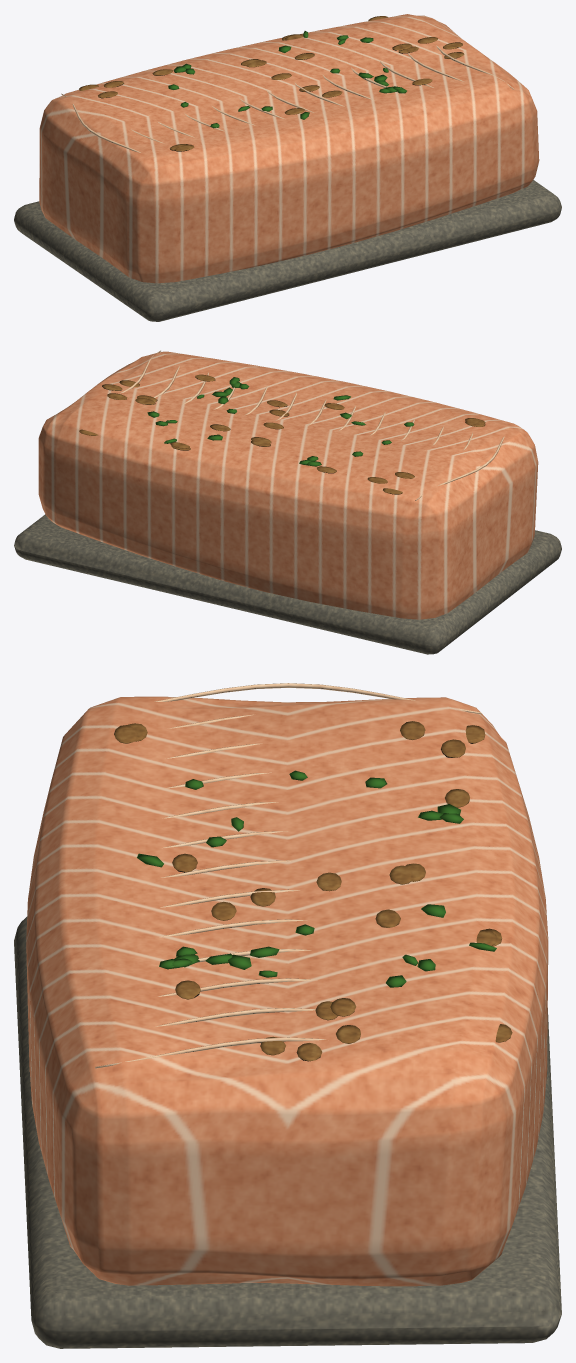
The model's file is salmon.glb.
3 renders of one model, top to bottom at view 1: azimuth 30°, elevation 25°; view 2: azimuth 150°, elevation 25°; view 3: azimuth 270°, elevation 25°, orthographic. The views are drawn at different scales.
Visible parts, largest first — view 1: salmon; view 2: salmon; view 3: salmon.
Part boxes in pixels (x1=…): salmon: x1=14, y1=14, x2=561, y2=321; salmon: x1=14, y1=350, x2=561, y2=654; salmon: x1=14, y1=683, x2=561, y2=1348.
Size of the model in its own units: 0.0798 by 0.0264 by 0.0455.
Materials: 1 (1 with a texture image).
